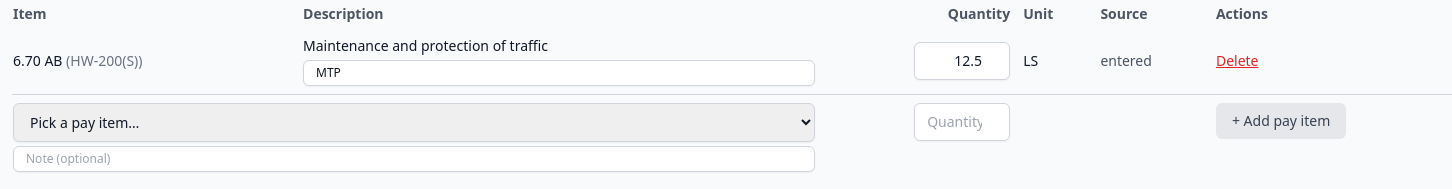
Test: SitePayItemsEditor › changes a quantity on blur and removes a pay item
The width and height of the screenshot is (1452, 189).
Replace the text in the number field named "Quantity of 6.70 AB" with "4" at (962, 61), box [914,42,1010,80]
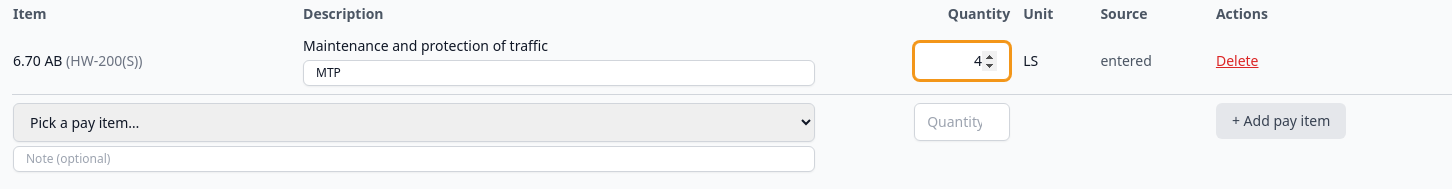
Press Tab
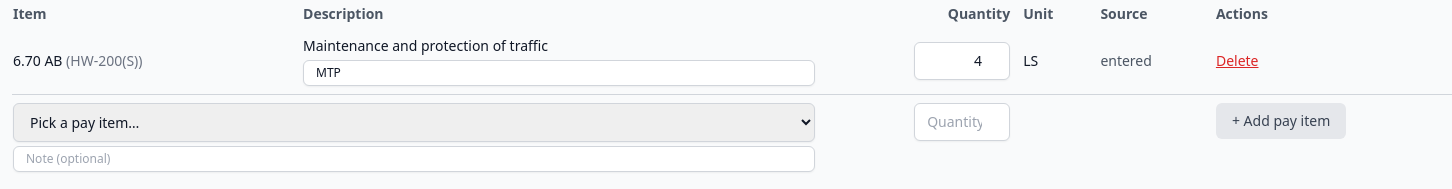
Click the button "Delete" at (1237, 61), box [1216,51,1258,71]
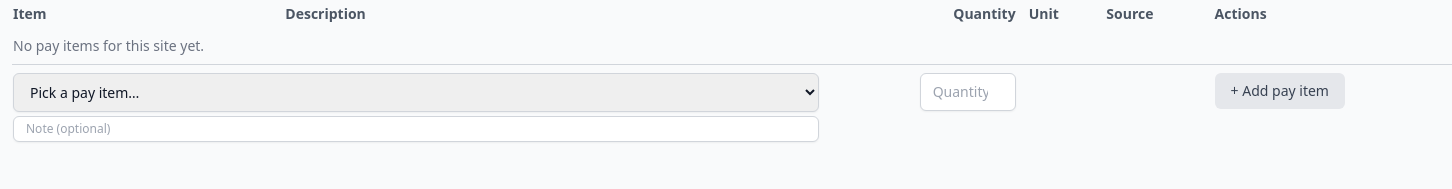
Result: the text "No pay items for this site yet." is shown at [12,28,1451,64]
